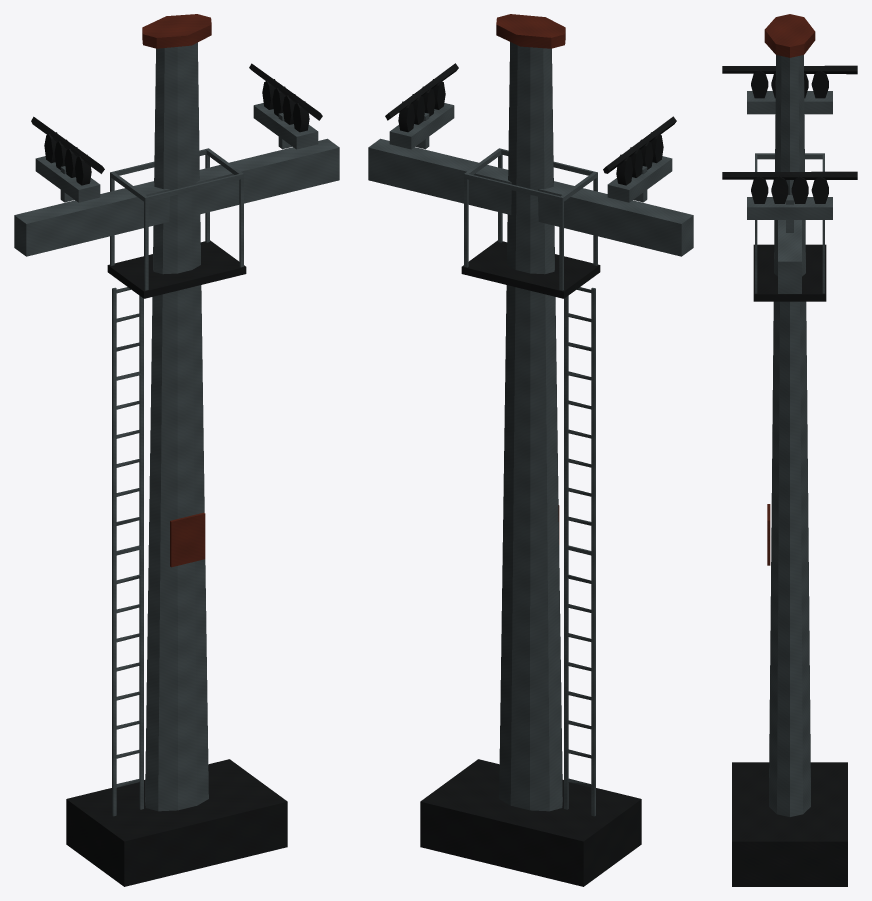
Rendered from chairlift-tower-lod.glb.
3 views of the same model, side by side, from view 1: azimuth 30°, elevation 25°; view 2: azimuth 150°, elevation 25°; view 3: azimuth 270°, elevation 25° (orthographic).
Parts seen in each view (by area): view 1: chairlift-tower-chairlift-tower_1, chairlift-tower-chairlift-tower_0, chairlift-tower-chairlift-tower_2, chairlift-tower-chairlift-tower_3; view 2: chairlift-tower-chairlift-tower_1, chairlift-tower-chairlift-tower_0, chairlift-tower-chairlift-tower_2; view 3: chairlift-tower-chairlift-tower_1, chairlift-tower-chairlift-tower_0, chairlift-tower-chairlift-tower_2.
Part boxes in pixels (box(x1,y1,x2,y2)): chairlift-tower-chairlift-tower_1: box(14, 42, 339, 816); chairlift-tower-chairlift-tower_0: box(31, 63, 322, 886); chairlift-tower-chairlift-tower_2: box(142, 14, 211, 48); chairlift-tower-chairlift-tower_3: box(170, 512, 205, 567); chairlift-tower-chairlift-tower_1: box(368, 42, 693, 816); chairlift-tower-chairlift-tower_0: box(385, 63, 676, 886); chairlift-tower-chairlift-tower_2: box(496, 14, 565, 48); chairlift-tower-chairlift-tower_1: box(747, 55, 832, 816); chairlift-tower-chairlift-tower_0: box(722, 65, 857, 886); chairlift-tower-chairlift-tower_2: box(764, 14, 815, 57).
Size of the model in its own units: 4 by 10 by 1.5.
3 materials, 3 textured.
